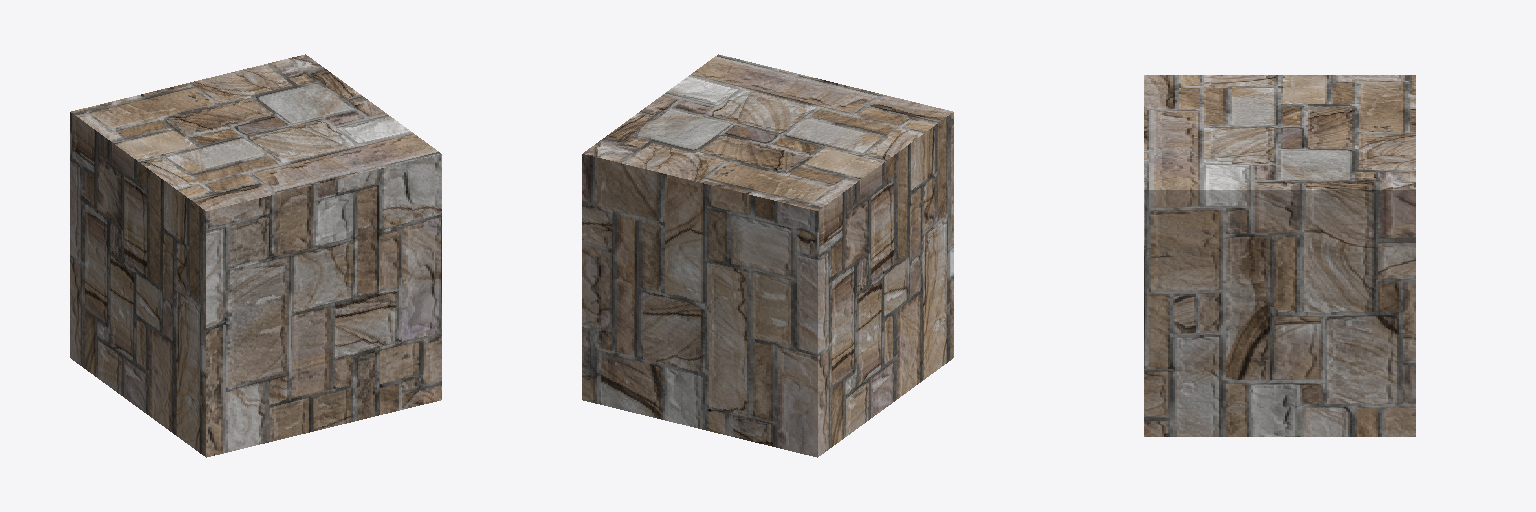
3 views of the same model, side by side, from view 1: azimuth 30°, elevation 25°; view 2: azimuth 150°, elevation 25°; view 3: azimuth 270°, elevation 25° (orthographic).
Visible parts, largest first — view 1: box_Material; view 2: box_Material; view 3: box_Material.
Part boxes in pixels (bbox=[...]): box_Material: bbox=[70, 54, 441, 457]; box_Material: bbox=[582, 54, 953, 457]; box_Material: bbox=[1144, 75, 1415, 436].
Bounding box in the file's own units: 2 × 2 × 2.
1 materials, 1 textured.